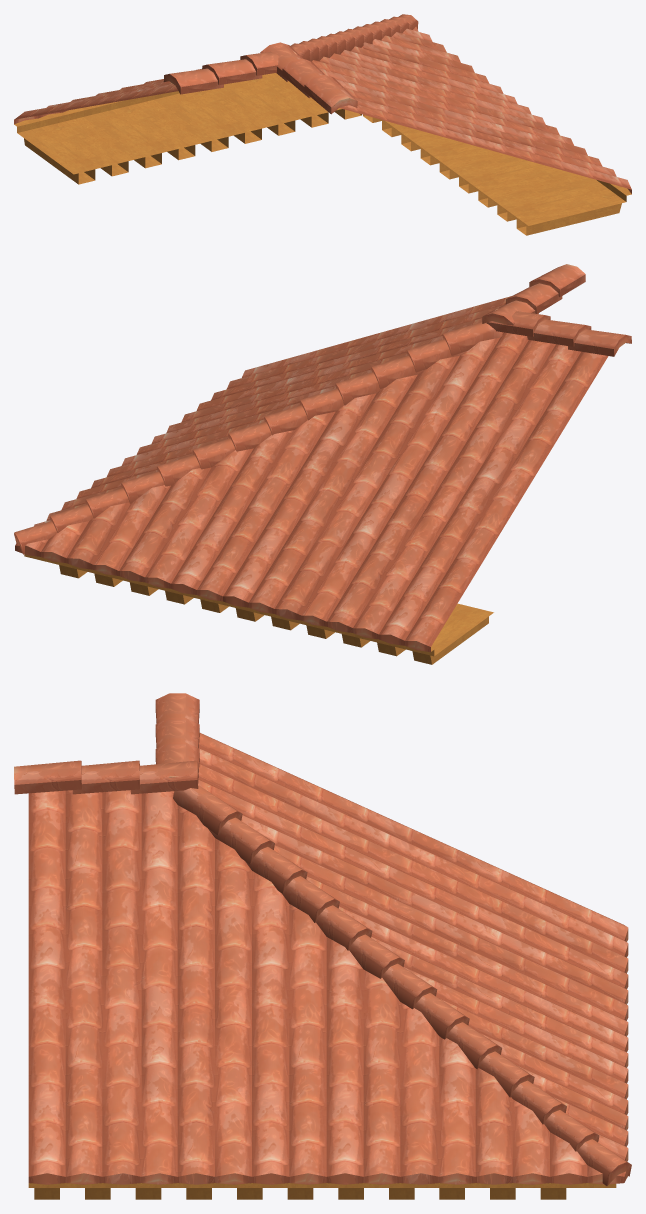
Rendered from Roof26_Corner.fbx.
3 renders of one model, top to bottom at view 1: azimuth 30°, elevation 25°; view 2: azimuth 150°, elevation 25°; view 3: azimuth 270°, elevation 25°, orthographic. The views are drawn at different scales.
Visible parts, largest first — view 1: Roof26_Corner; view 2: Roof26_Corner; view 3: Roof26_Corner.
Part boxes in pixels (x1,y1,x2,y2): Roof26_Corner: (14, 14, 631, 235); Roof26_Corner: (14, 264, 631, 664); Roof26_Corner: (14, 693, 631, 1199).
Bounding box in the file's own units: 4.19 × 4.15 × 1.88.
